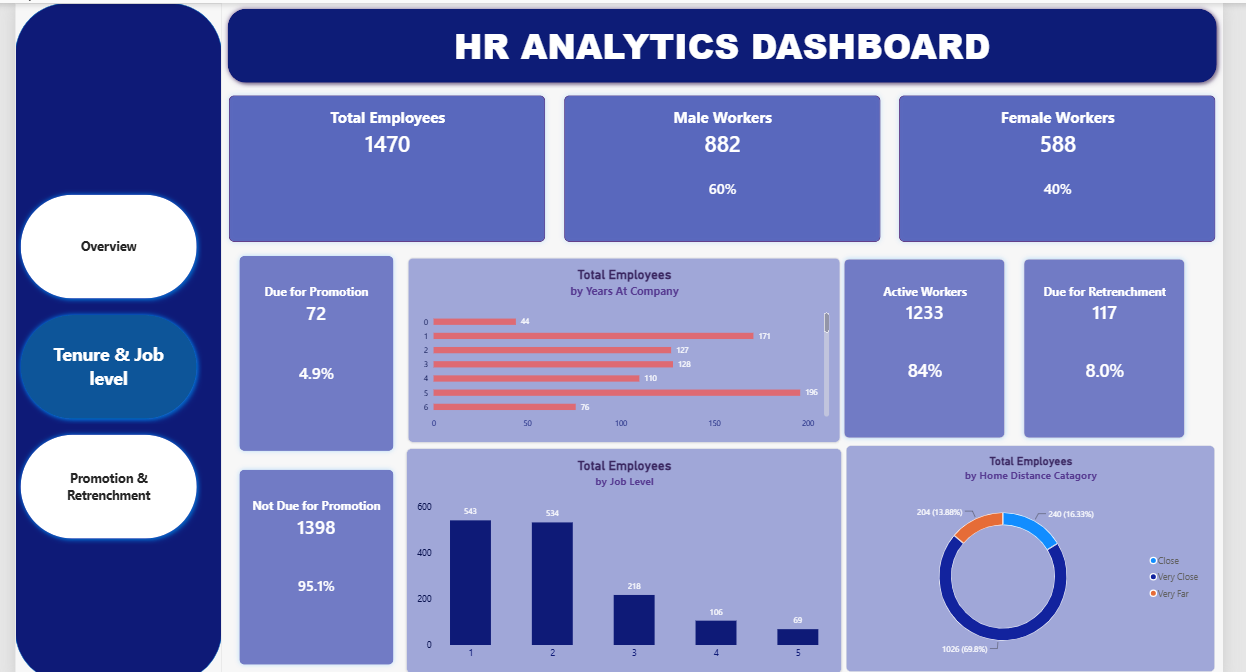

The dashboard page shown, as its layout file describes it:
{"tool":"powerbi","page":{"name":"Tenure & Job level","canvas":[1920,1080],"ordinal":1},"visuals":[{"type":"shape","box":[0,0,329.3,1080.8],"z":0,"group":"g2"},{"type":"cardVisual","fields":{"Data":["DAX Measures.Total Employees","DAX Measures.Male Workers","DAX Measures.Female Workers"]},"box":[329.3,136,1591.4,255.3],"z":0},{"type":"clusteredColumnChart","fields":{"Y":["DAX Measures.Total Employees"],"Category":["Table1.Job Level"]},"box":[622.9,707.9,691.9,357.9],"z":0,"group":"g1"},{"type":"pageNavigator","box":[0,295.9,298.2,567.8],"z":9,"group":"g2"},{"type":"cardVisual","fields":{"Data":["DAX Measures.Due for Promotion","DAX Measures.Not Due for Promotion"]},"box":[346.1,390.6,267.2,672.8],"z":1000,"group":"g1"},{"type":"group","id":"g1","title":"Group 2","box":[346.1,390.6,1562.8,675.2],"z":2000},{"type":"cardVisual","fields":{"Data":["DAX Measures.Active Workers","DAX Measures.Due for Retrenchment"]},"box":[1307.6,395.4,565.5,307.8],"z":2000,"group":"g1"},{"type":"barChart","fields":{"Category":["Table1.Years At Company"],"Y":["DAX Measures.Total Employees"]},"box":[625.3,404.9,687.1,293.5],"z":3000,"group":"g1"},{"type":"shape","box":[329.3,0,1591.4,136],"z":4000},{"type":"donutChart","fields":{"Category":["Table1.Home Distance Catagory"],"Y":["DAX Measures.Total Employees"]},"box":[1321.9,703.2,586.9,360.3],"z":4000,"group":"g1"},{"type":"group","id":"g2","title":"Group 4","box":[0,0,329.3,1080.8],"z":5000}]}

Visuals, with their boxes on the page's 1920x1080 design canvas (x1, y1, x2, y2). These are canvas units, not pixel positions in the 1246x672 screenshot, which may show the page scaled, cropped or inside an application window:
shape: bbox(0, 0, 329, 1081)
cardVisual - DAX Measures.Total Employees x DAX Measures.Male Workers: bbox(329, 136, 1921, 391)
clusteredColumnChart - DAX Measures.Total Employees x Table1.Job Level: bbox(623, 708, 1315, 1066)
pageNavigator: bbox(0, 296, 298, 864)
cardVisual - DAX Measures.Due for Promotion x DAX Measures.Not Due for Promotion: bbox(346, 391, 613, 1063)
"Group 2" group: bbox(346, 391, 1909, 1066)
cardVisual - DAX Measures.Active Workers x DAX Measures.Due for Retrenchment: bbox(1308, 395, 1873, 703)
barChart - Table1.Years At Company x DAX Measures.Total Employees: bbox(625, 405, 1312, 698)
shape: bbox(329, 0, 1921, 136)
donutChart - Table1.Home Distance Catagory x DAX Measures.Total Employees: bbox(1322, 703, 1909, 1064)
"Group 4" group: bbox(0, 0, 329, 1081)
